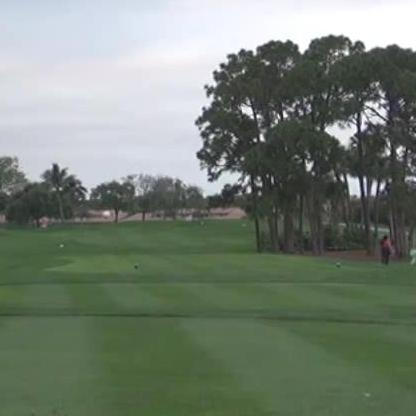golfball: (101, 210, 111, 219)
